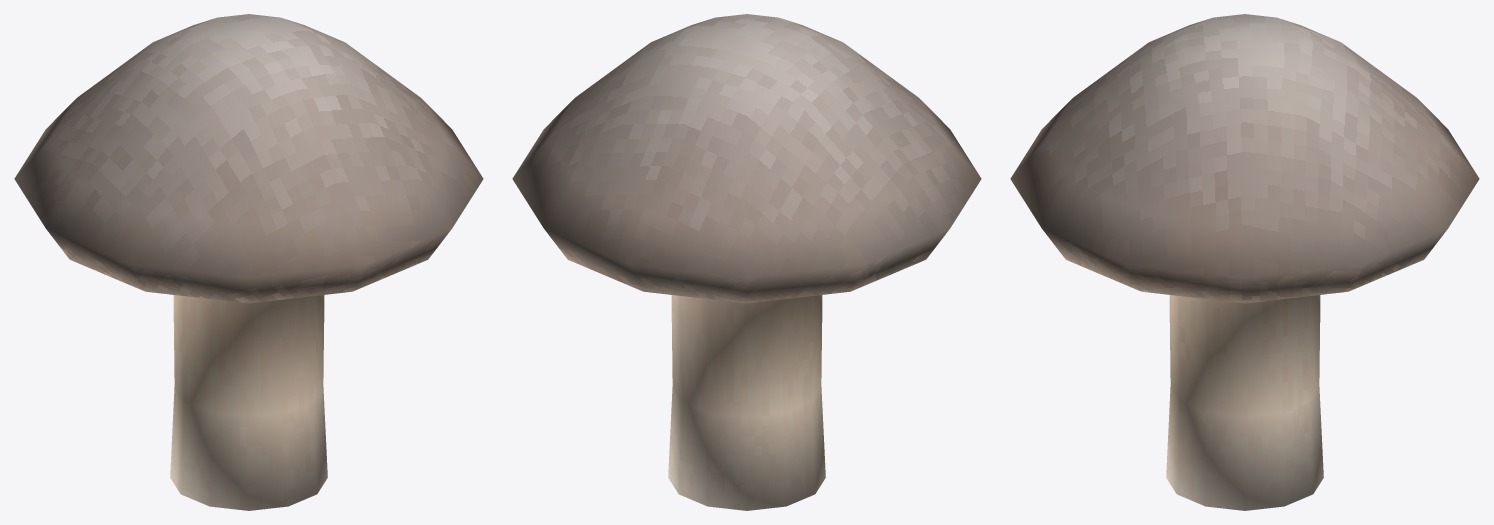
The model's file is Mushroom_Grey.glb.
3 views of the same model, side by side, from view 1: azimuth 30°, elevation 25°; view 2: azimuth 150°, elevation 25°; view 3: azimuth 270°, elevation 25° (orthographic).
Visible parts, largest first — view 1: Sphere.019; view 2: Sphere.019; view 3: Sphere.019.
Part boxes in pixels (x1=…): Sphere.019: x1=14, y1=14, x2=483, y2=510; Sphere.019: x1=512, y1=14, x2=981, y2=510; Sphere.019: x1=1010, y1=14, x2=1479, y2=510.
Bounding box in the file's own units: 0.1277 × 0.1384 × 0.1277.
Materials: 2 (2 with a texture image).
